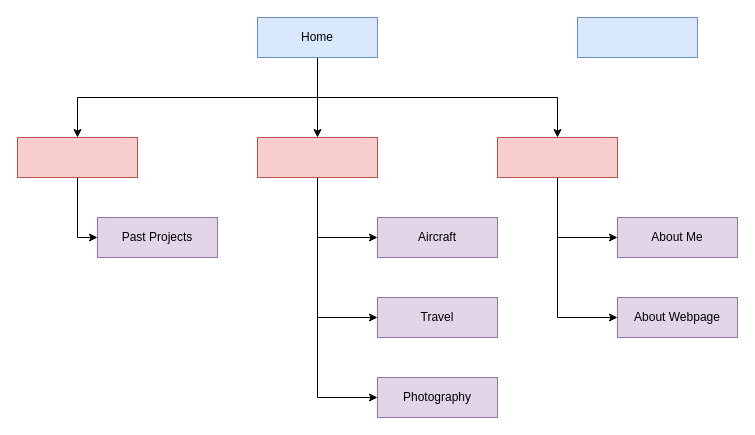
Some shapes in this 755 by 435 pixel diagram are drawn without their labels. Each missing label, with the centre of its shape:
"About" goes at point 557,157.
"Admin Page" goes at point 637,37.
"Portfolio" goes at point 77,157.
"Small Blog" goes at point 317,157.
